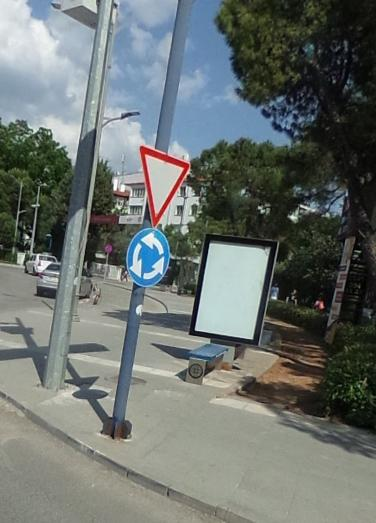crossroads: (125, 225, 171, 282)
